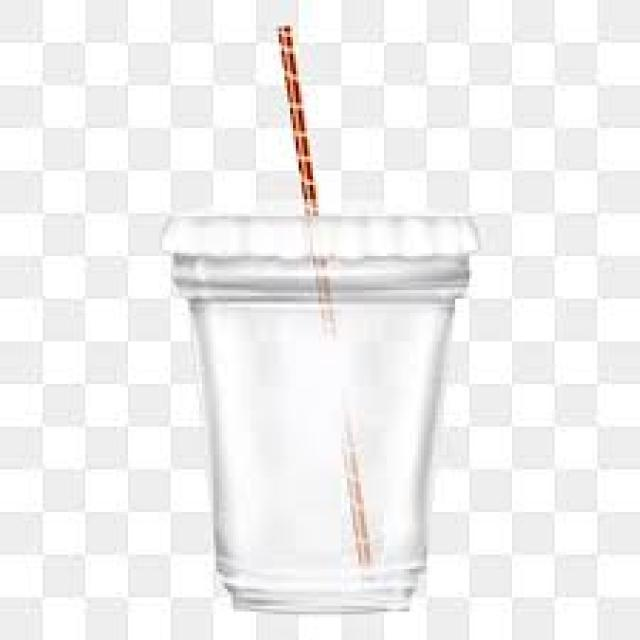cup: (150, 183, 488, 630)
